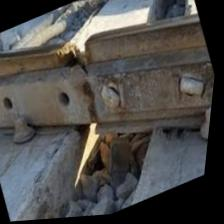person: (36, 16, 122, 95)
